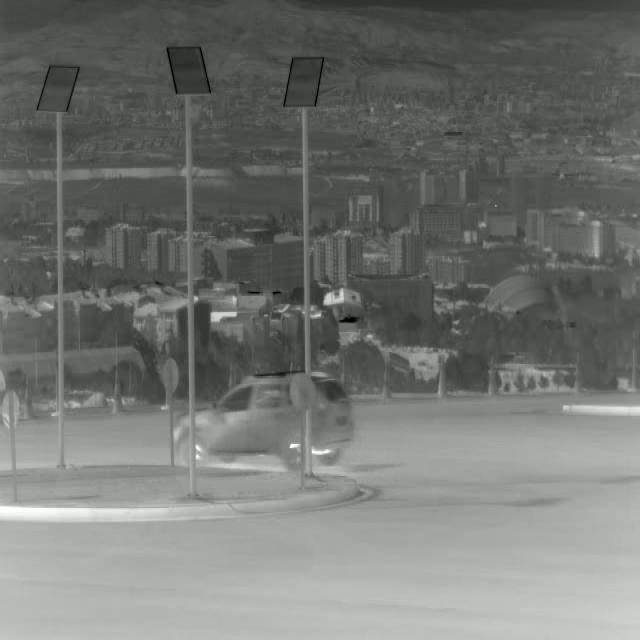Car: (174, 369, 356, 462)
